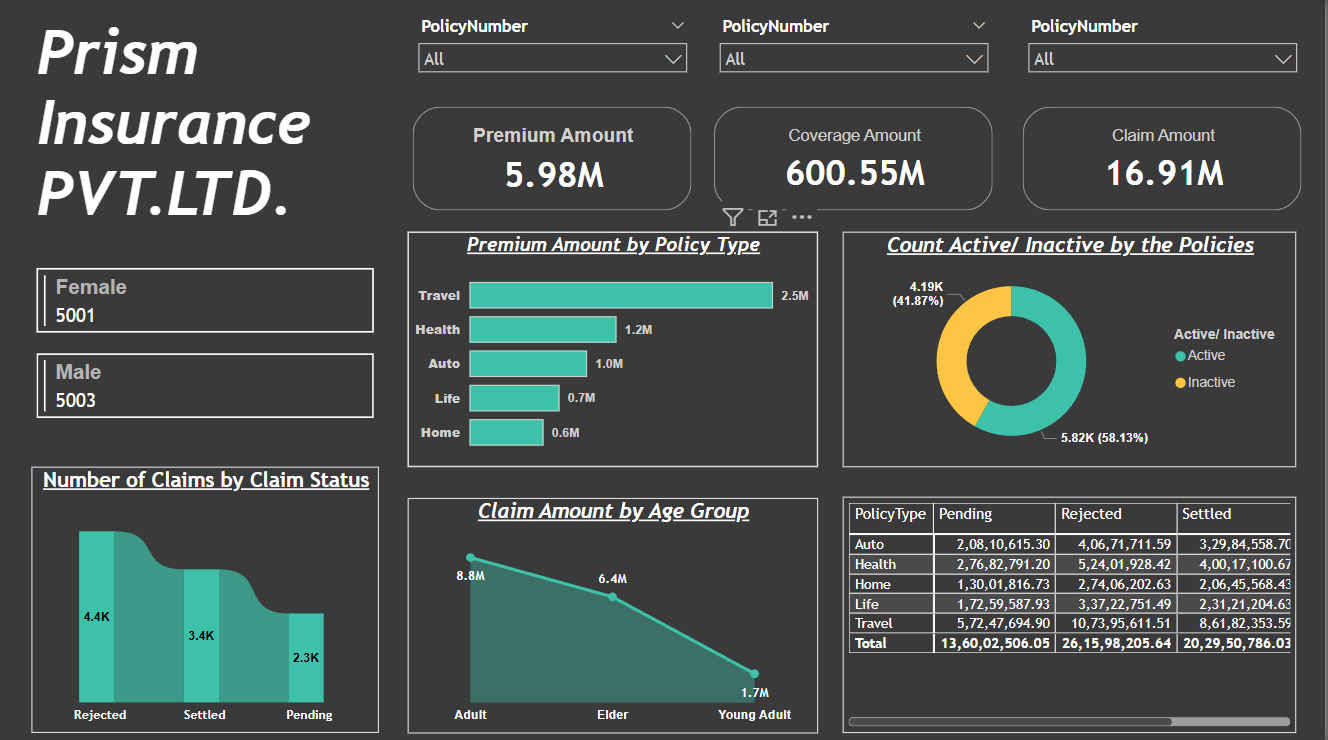

The page's visual inventory and layout, read from the dashboard file:
{"tool":"powerbi","page":{"name":"Prism Insurance PVT.LTD ","canvas":[1280,720],"ordinal":0},"visuals":[{"type":"slicer","fields":{"Values":["InsuranceData.PolicyNumber"]},"box":[685.3,13.3,279.9,86.9],"z":0},{"type":"slicer","fields":{"Values":["InsuranceData.PolicyNumber"]},"box":[394.5,13.3,279.9,101.3],"z":1000},{"type":"slicer","fields":{"Values":["InsuranceData.PolicyNumber"]},"box":[983.2,13.3,279.9,88.1],"z":2000},{"type":"textbox","box":[31.4,13.3,335.4,242.5],"z":3000},{"type":"cardVisual","fields":{"Data":["Sum(InsuranceData.PremiumAmount)"]},"box":[394.5,100.1,279.9,111],"z":4000},{"type":"cardVisual","fields":{"Data":["Sum(InsuranceData.CoverageAmount)"]},"box":[685.3,100.1,279.9,111],"z":5000},{"type":"cardVisual","fields":{"Data":["Sum(InsuranceData.ClaimAmount)"]},"box":[983.2,100.1,279.9,111],"z":6000},{"type":"multiRowCard","fields":{"Values":["InsuranceData.Gender","CountNonNull(InsuranceData.Gender)"]},"box":[31.4,255.8,335.4,185.8],"z":7000},{"type":"ribbonChart","title":"Number of Claims by  Claim Status","fields":{"Category":["InsuranceData.ClaimStatus"],"Y":["CountNonNull(InsuranceData.ClaimStatus)"]},"box":[31.4,452.4,335.4,257],"z":8000},{"type":"barChart","title":"Premium Amount by Policy Type","fields":{"Category":["InsuranceData.PolicyType"],"Y":["Sum(InsuranceData.PremiumAmount)"]},"box":[394.5,225.6,395.7,226.8],"z":9000},{"type":"lineChart","title":"Claim Amount by Age Group","fields":{"Category":["InsuranceData.Age Group"],"Y":["Sum(InsuranceData.ClaimAmount)"]},"box":[394.5,482.6,395.7,226.8],"z":10000},{"type":"donutChart","title":"Count Active/ Inactive by the Policies","fields":{"Category":["InsuranceData.Active/ Inactive"],"Y":["CountNonNull(InsuranceData.Active/ Inactive)"]},"box":[814.3,225.6,437.9,226.8],"z":11000},{"type":"pivotTable","fields":{"Values":["Sum(InsuranceData.CoverageAmount)"],"Rows":["InsuranceData.PolicyType"],"Columns":["InsuranceData.ClaimStatus"]},"box":[814.3,481.4,437.9,228],"z":12000},{"type":"actionButton","box":[0,0,100,40],"z":12001}]}

Visuals, with their boxes in screenshot pixels (x1, y1, x2, y2), scaled from the page's 1280x720 canvas onto the 1328x740 screenshot:
slicer - InsuranceData.PolicyNumber: crop(711, 14, 1001, 103)
slicer - InsuranceData.PolicyNumber: crop(409, 14, 700, 118)
slicer - InsuranceData.PolicyNumber: crop(1020, 14, 1310, 104)
textbox: crop(33, 14, 381, 263)
cardVisual - Sum(InsuranceData.PremiumAmount): crop(409, 103, 700, 217)
cardVisual - Sum(InsuranceData.CoverageAmount): crop(711, 103, 1001, 217)
cardVisual - Sum(InsuranceData.ClaimAmount): crop(1020, 103, 1310, 217)
multiRowCard - InsuranceData.Gender x CountNonNull(InsuranceData.Gender): crop(33, 263, 381, 454)
"Number of Claims by  Claim Status" ribbonChart: crop(33, 465, 381, 729)
"Premium Amount by Policy Type" barChart: crop(409, 232, 820, 465)
"Claim Amount by Age Group" lineChart: crop(409, 496, 820, 729)
"Count Active/ Inactive by the Policies" donutChart: crop(845, 232, 1299, 465)
pivotTable - Sum(InsuranceData.CoverageAmount) x InsuranceData.PolicyType: crop(845, 495, 1299, 729)
actionButton: crop(0, 0, 104, 41)
